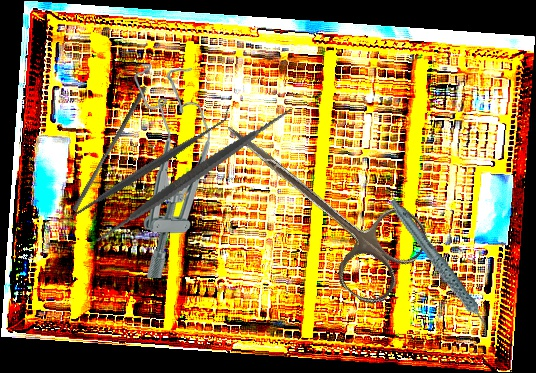Handpiece: (388, 185, 491, 351)
Iris Scissors: (194, 92, 437, 312)
Pusher: (71, 82, 148, 215)
Spatula Surgical: (81, 62, 308, 288), (56, 105, 240, 231)
Speculum: (130, 63, 212, 280)
